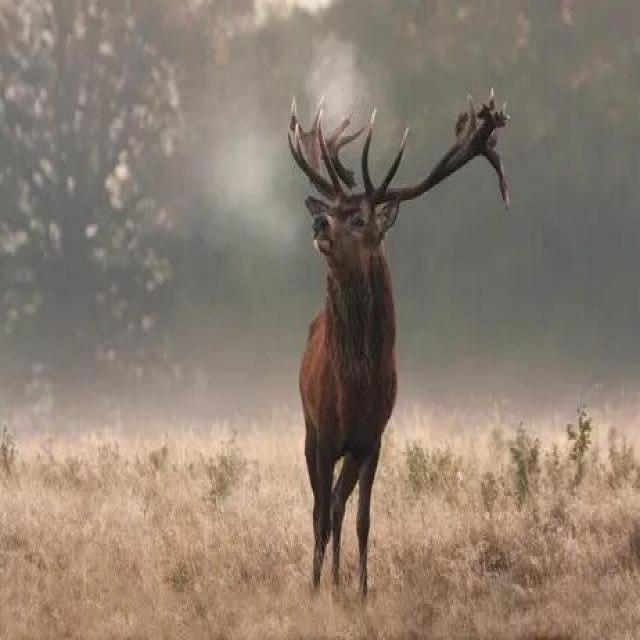deer: (220, 46, 444, 503)
